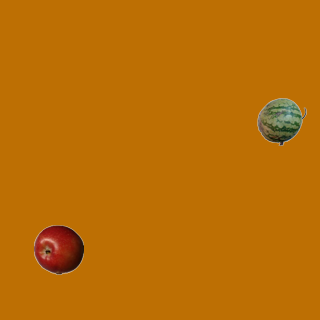Apple Braeburn: (33, 224, 83, 274)
Watermelon: (256, 96, 306, 146)
